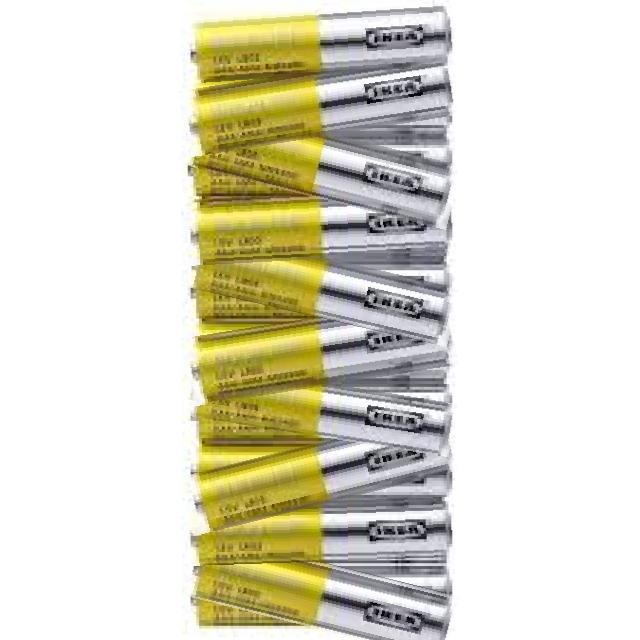Battery: (193, 420, 457, 545), (179, 307, 453, 411), (186, 54, 460, 156), (190, 130, 453, 232), (186, 241, 459, 337), (181, 552, 456, 639), (198, 372, 457, 459), (190, 5, 455, 81), (180, 194, 460, 264), (187, 502, 458, 570)
